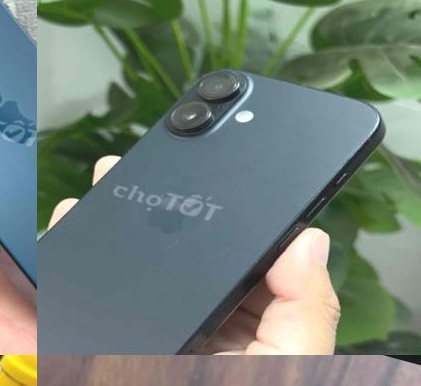scratch: (241, 251, 273, 287), (230, 71, 256, 96)
